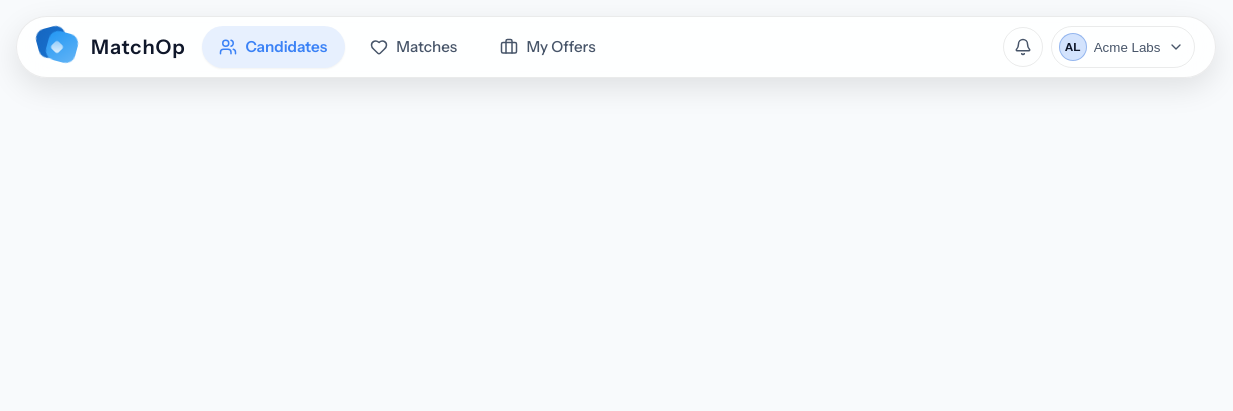
Navbar desktop IA › shows company profile menu with secondary actions
This screenshot has width=1233, height=411.
Step 1. Click the button with aria-label "Open profile menu" → [1123, 47], box x1=1051 y1=26 x2=1195 y2=68
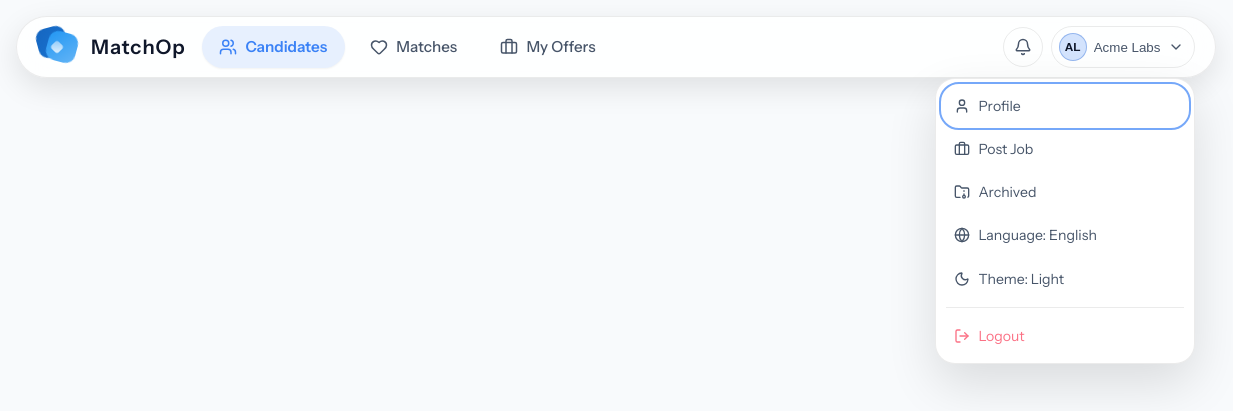
Result: the menu item "Profile" is shown at x1=954 y1=96 x2=1021 y2=114
Result: the menu item "Post Job" is shown at x1=954 y1=140 x2=1033 y2=158
Result: the menu item "Archived" is shown at x1=954 y1=183 x2=1037 y2=201
